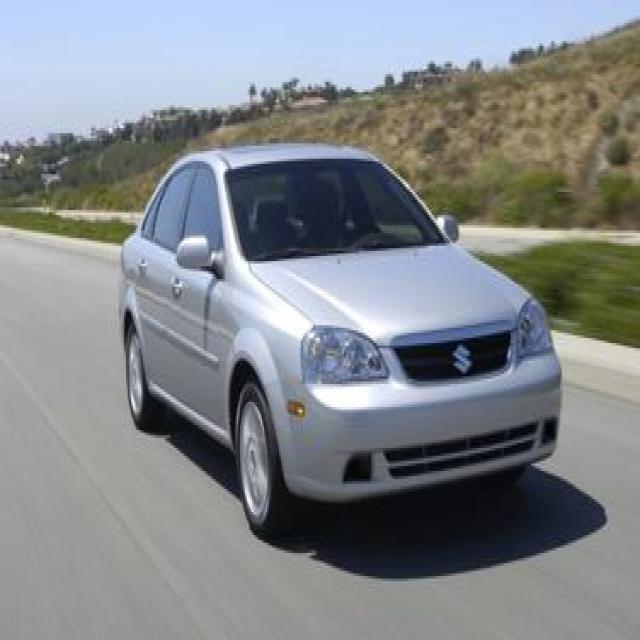Car: (91, 129, 583, 539)
